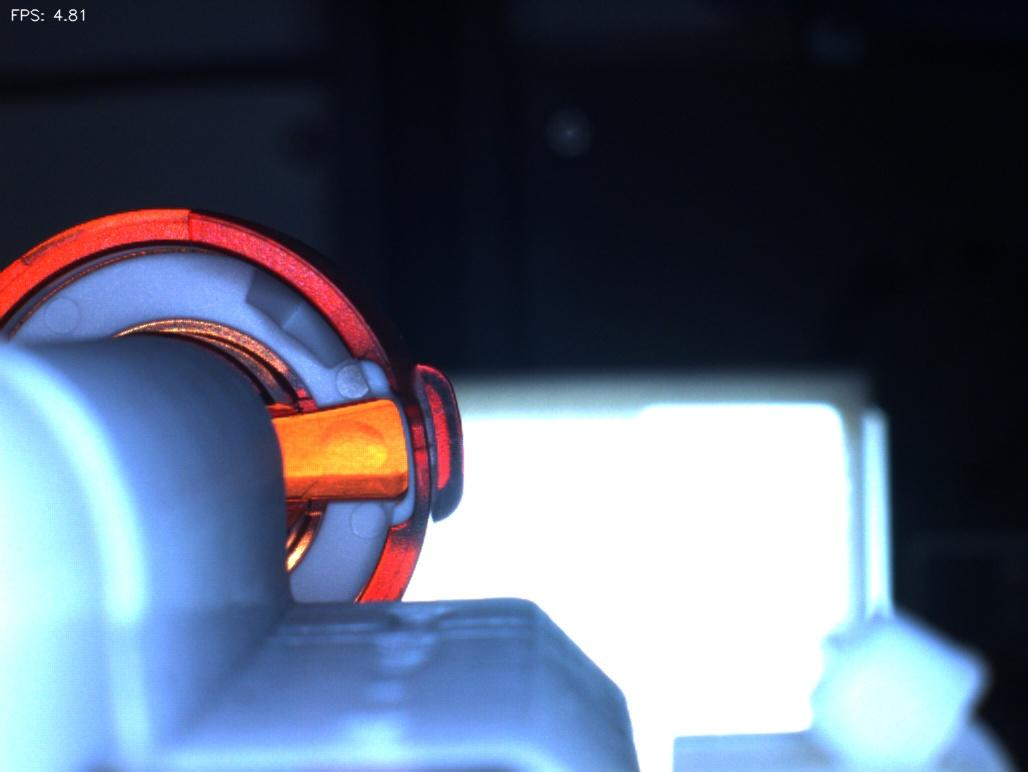Retassure: (302, 412, 396, 488)
